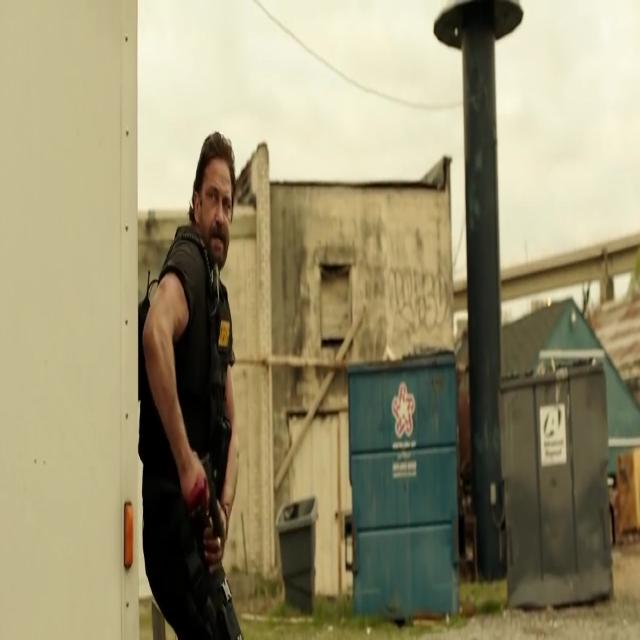Weapon: (202, 470, 240, 606)
